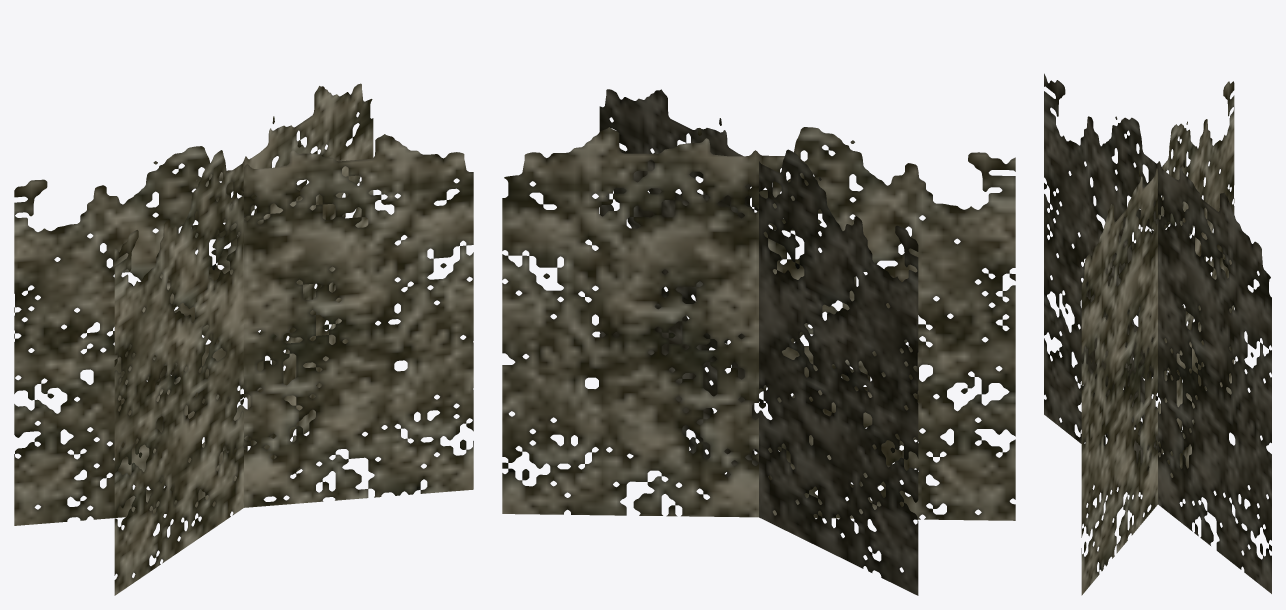
File: bush_overgrown_dead.fbx
3 renders of one model, left to right at view 1: azimuth 30°, elevation 25°; view 2: azimuth 150°, elevation 25°; view 3: azimuth 270°, elevation 25°, orthographic. The views are drawn at different scales.
Parts seen in each view (by area): view 1: bush_overgrown_dead; view 2: bush_overgrown_dead; view 3: bush_overgrown_dead.
Part boxes in pixels (x1,y1,x2,y2): bush_overgrown_dead: (14, 83, 473, 595); bush_overgrown_dead: (502, 89, 1015, 595); bush_overgrown_dead: (1044, 73, 1271, 595).
Bounding box in the file's own units: 105 × 106 × 54.93.
Materials: 1 (1 with a texture image).
